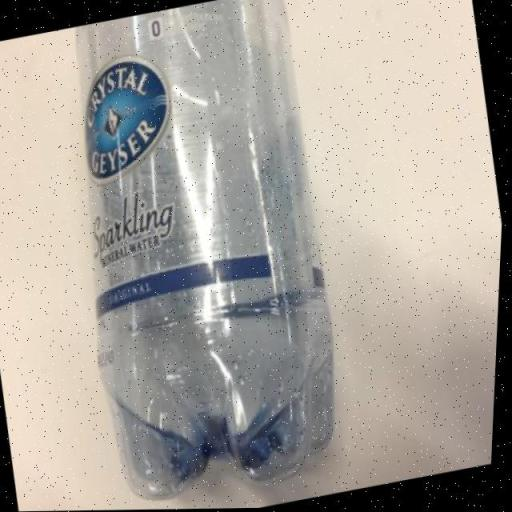plastic: (38, 0, 381, 511)
